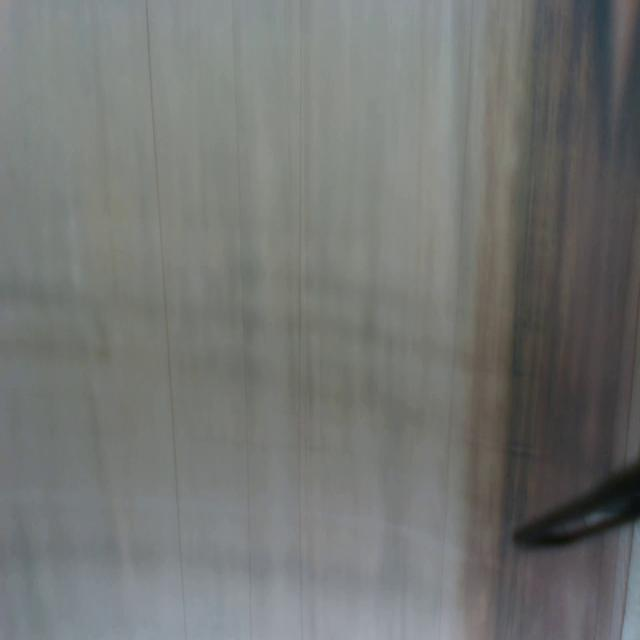color bleeding: (477, 0, 640, 460)
crease: (145, 2, 187, 640), (436, 0, 475, 639), (232, 0, 254, 640), (296, 1, 305, 640)
